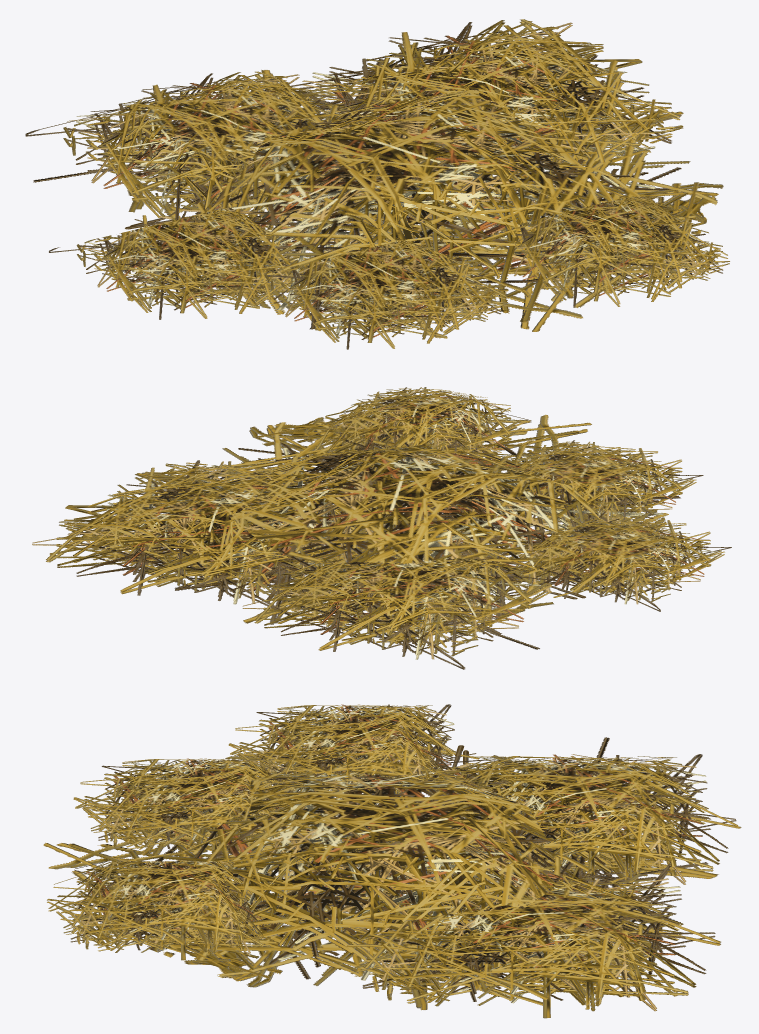
The model's file is slama5.FBX.
3 views of the same model, one above another, from view 1: azimuth 30°, elevation 25°; view 2: azimuth 150°, elevation 25°; view 3: azimuth 270°, elevation 25° (orthographic). The views are drawn at different scales.
Visible parts, largest first — view 1: Slama005_LOD1, Slama005_LOD2; view 2: Slama005_LOD1, Slama005_LOD2; view 3: Slama005_LOD1, Slama005_LOD2.
Part boxes in pixels (x1,y1,x2,y2): Slama005_LOD1: [25, 19, 729, 349]; Slama005_LOD2: [25, 21, 729, 349]; Slama005_LOD1: [32, 387, 731, 668]; Slama005_LOD2: [32, 391, 731, 669]; Slama005_LOD1: [47, 704, 738, 1017]; Slama005_LOD2: [43, 705, 741, 1018].
Size of the model in its own units: 265 by 16.14 by 258.
